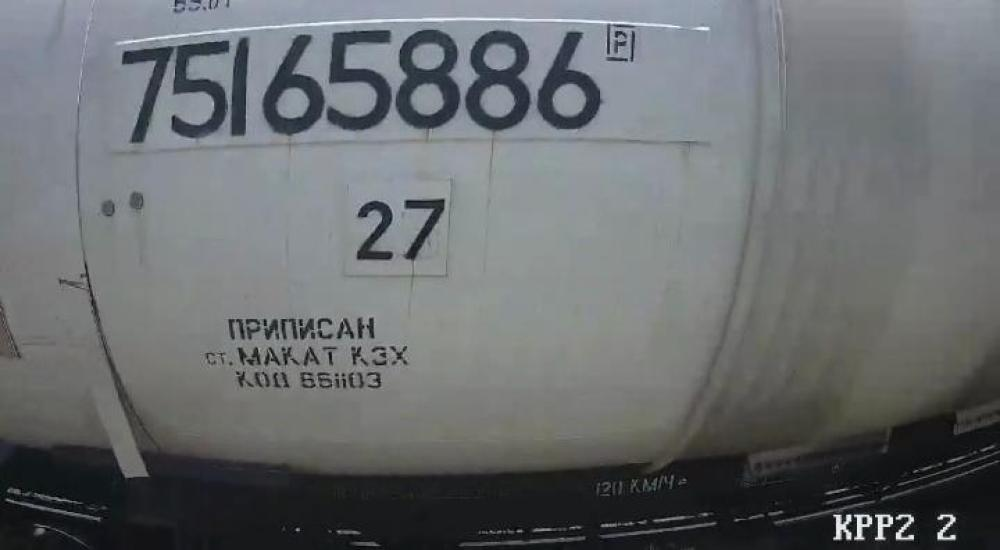Wagon-number: (113, 22, 608, 145)
